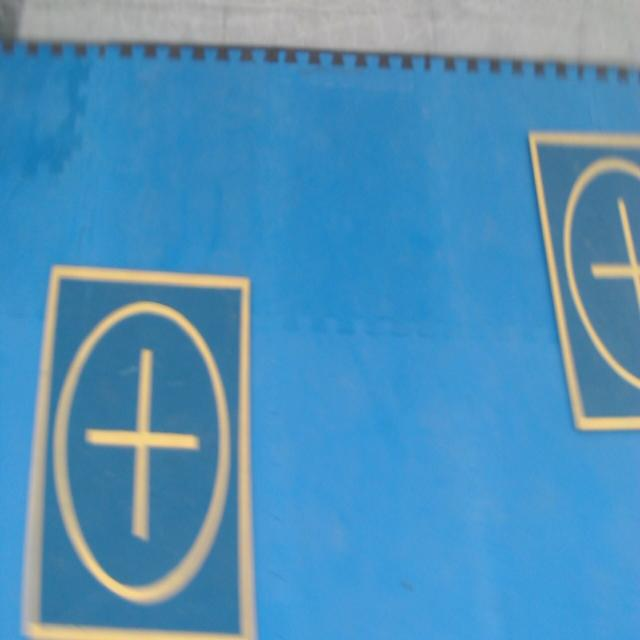base_pouso: (21, 262, 258, 639), (525, 132, 640, 433)
